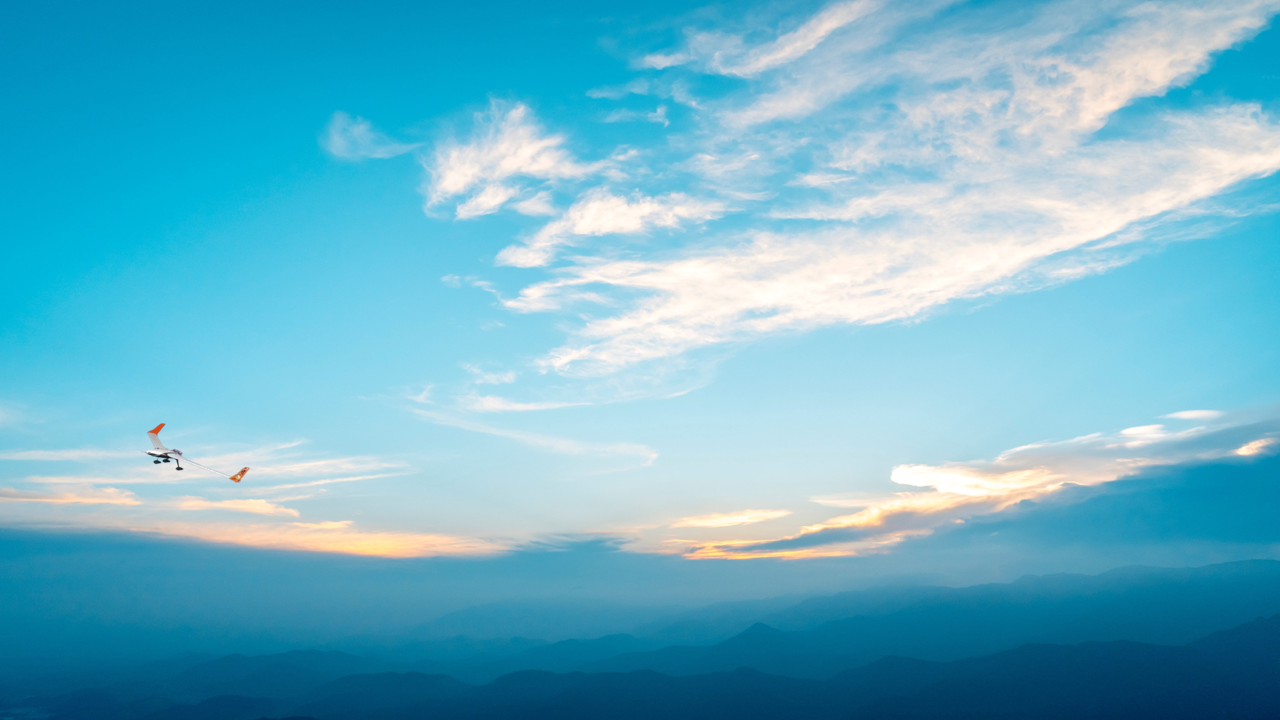military drone: (143, 422, 250, 482)
